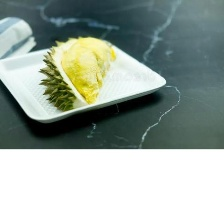foam_box: (0, 32, 170, 127)
